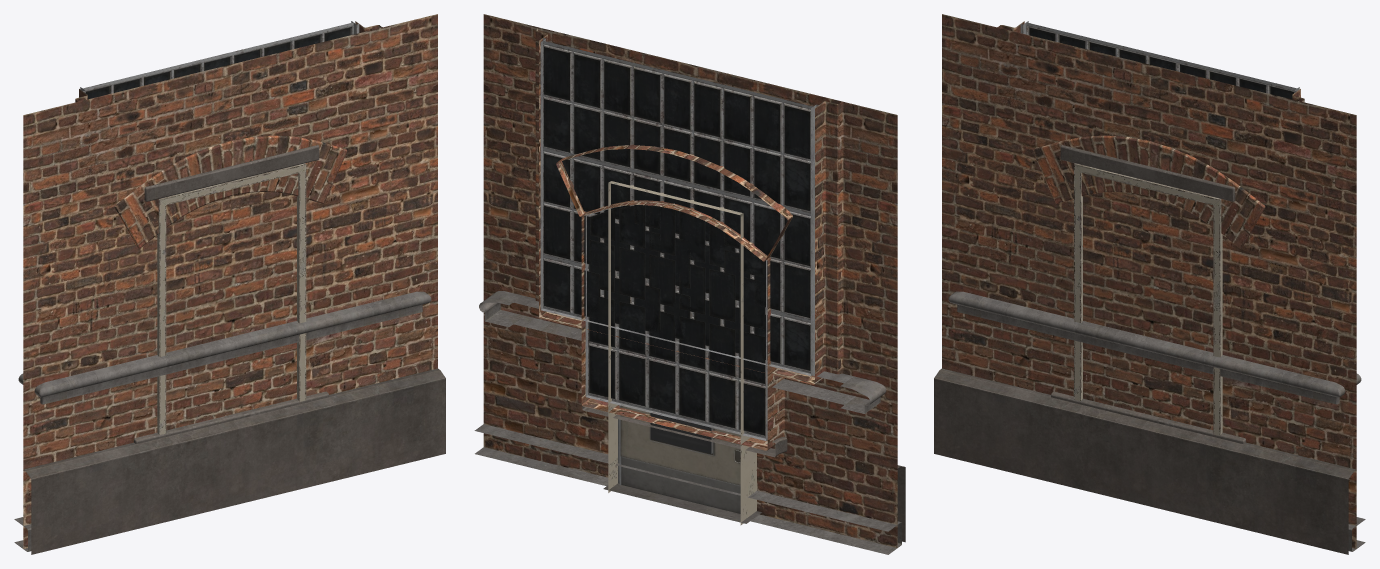
File: factory.glb
3 views of the same model, side by side, from view 1: azimuth 30°, elevation 25°; view 2: azimuth 150°, elevation 25°; view 3: azimuth 330°, elevation 25° (orthographic).
Visible parts, largest first — view 1: wall_standard_standard_01, wall_window_centered_medium_02, dado_standard_standard_01, wall_window_tall_large_01, window_tall_large_01, door, window; view 2: window_tall_large_01, wall_standard_standard_01, wall_window_centered_medium_02, window, wall_window_tall_large_01, door, cornice02_standard_standard_01, dado_standard_standard_01; view 3: wall_standard_standard_01, wall_window_centered_medium_02, dado_standard_standard_01, wall_window_tall_large_01, window_tall_large_01, door, window.
Boxes of the visible parts, left/top/right/bottom form: wall_standard_standard_01: left=23, top=24, right=437, bottom=548; wall_window_centered_medium_02: left=23, top=14, right=437, bottom=538; dado_standard_standard_01: left=23, top=368, right=445, bottom=554; wall_window_tall_large_01: left=23, top=21, right=437, bottom=548; window_tall_large_01: left=18, top=21, right=431, bottom=404; door: left=144, top=145, right=319, bottom=434; window: left=134, top=391, right=328, bottom=443; window_tall_large_01: left=479, top=38, right=886, bottom=413; wall_standard_standard_01: left=483, top=14, right=897, bottom=541; wall_window_centered_medium_02: left=483, top=14, right=897, bottom=547; window: left=582, top=205, right=787, bottom=457; wall_window_tall_large_01: left=483, top=27, right=897, bottom=539; door: left=603, top=181, right=761, bottom=525; cornice02_standard_standard_01: left=474, top=424, right=901, bottom=554; dado_standard_standard_01: left=897, top=465, right=905, bottom=542; wall_standard_standard_01: left=942, top=22, right=1356, bottom=527; wall_window_centered_medium_02: left=942, top=22, right=1356, bottom=548; dado_standard_standard_01: left=934, top=368, right=1356, bottom=554; wall_window_tall_large_01: left=942, top=14, right=1356, bottom=527; window_tall_large_01: left=948, top=21, right=1361, bottom=404; door: left=1060, top=145, right=1235, bottom=435; window: left=1051, top=391, right=1245, bottom=443.
Bounding box in the file's own units: 3 × 3 × 0.335.
6 materials, 6 textured.
